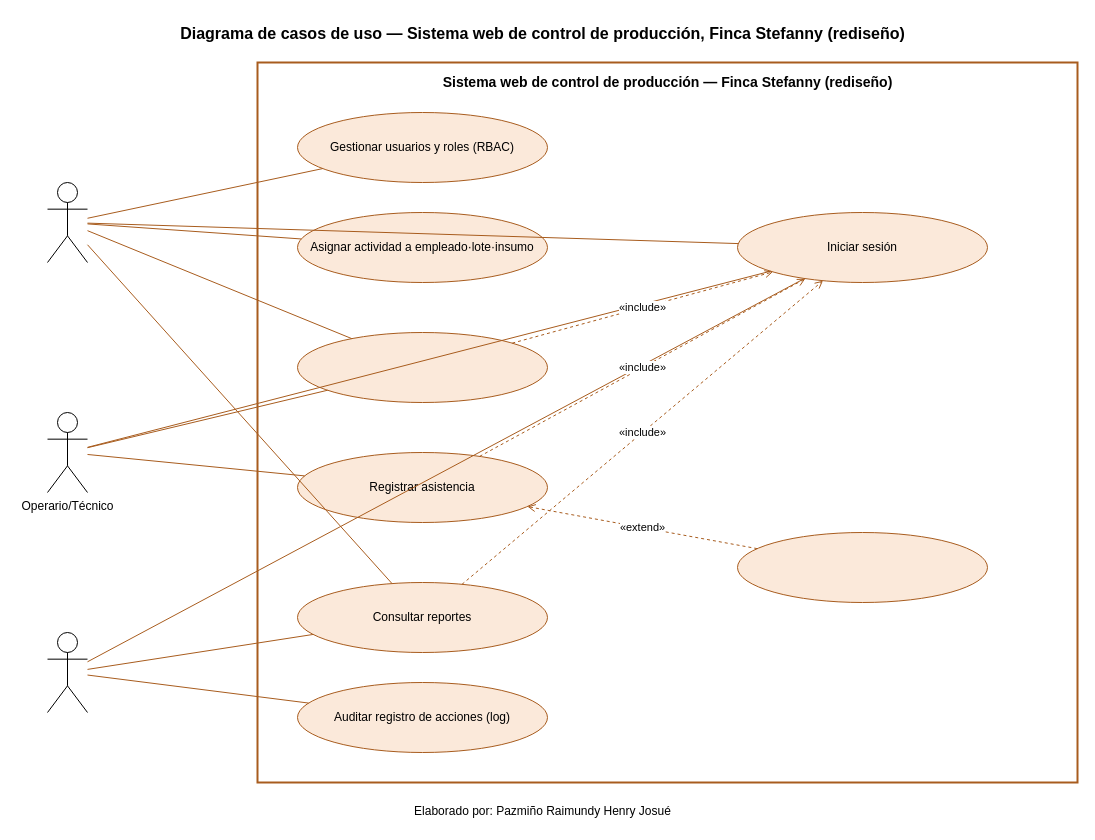
The diagram is 1095 pixels wide and 840 high, and some of its shapes have lost their labels. Each missing label, with the centre of its shape:
Administrador: the point at 67,222
Auditor/Consulta: the point at 67,672
Justificar falta/permiso: the point at 862,567
Registrar producción (cosecha): the point at 422,367
